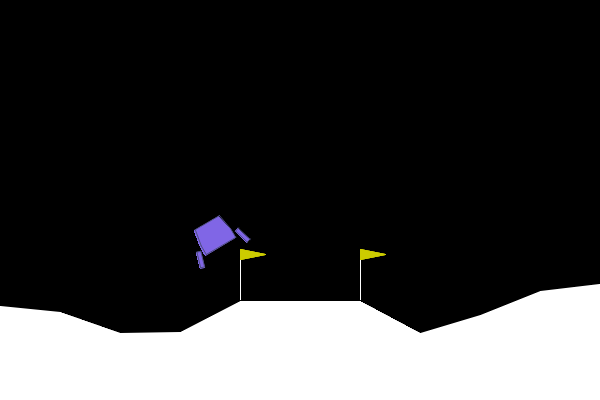lander: (180, 206, 252, 271)
